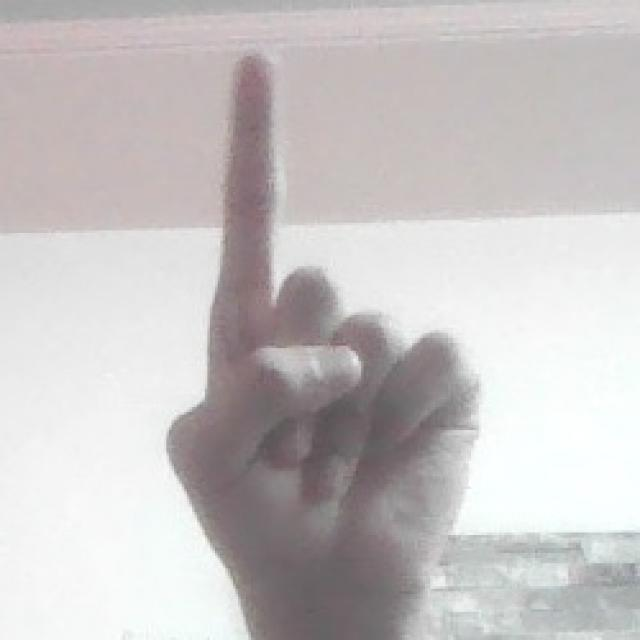Numeric-1: (167, 49, 480, 630)
